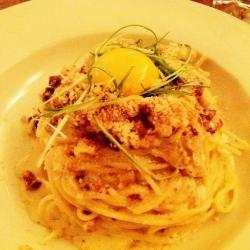bolonese_pasta: (32, 55, 236, 236)
